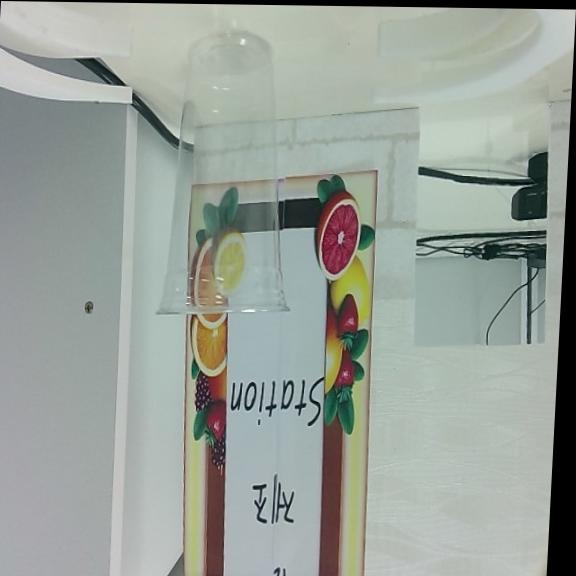Plastik: (157, 29, 285, 312)
